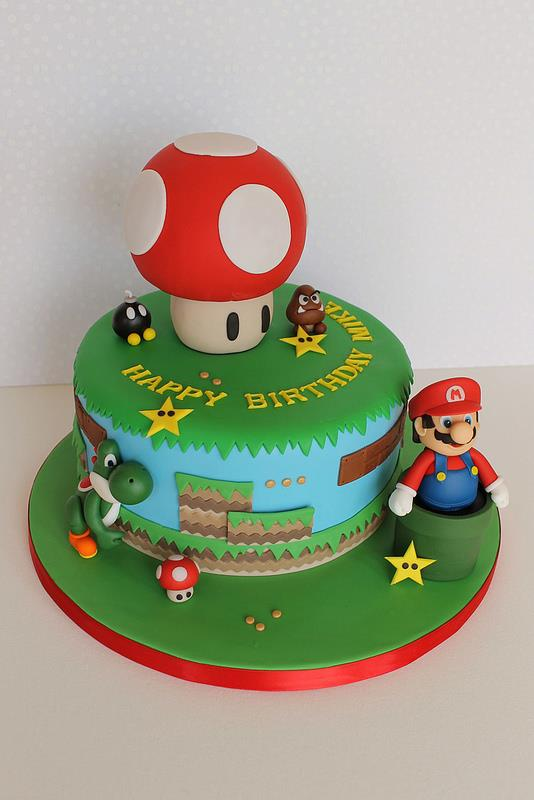mario: (369, 363, 515, 534)
